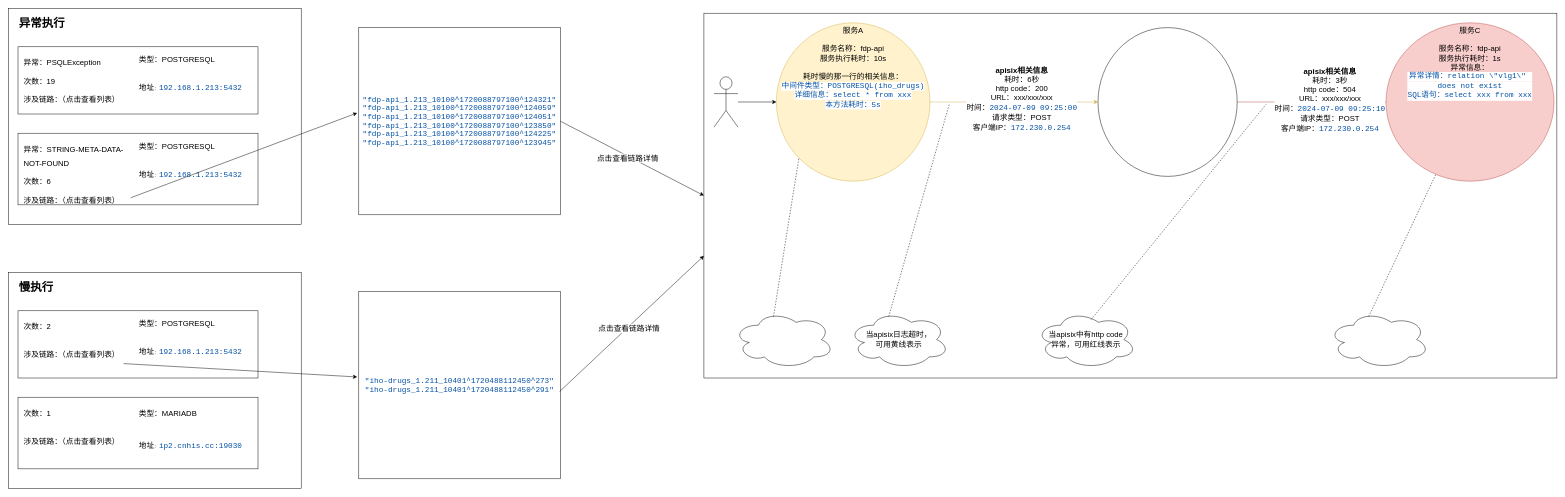
This 1565x497 diagram has some shape labels left out. The shapes that lost their labels are listed below. From the top down, each one's box as (x1, y1, x2, y2) in pixels, then its label:
(1098, 27, 1237, 176): 服务B
(733, 310, 834, 368): 当pinpoint中代码超时， 可用黄色表示
(1328, 310, 1429, 368): 当pinpoint中有异常信息， 可用红色表示
